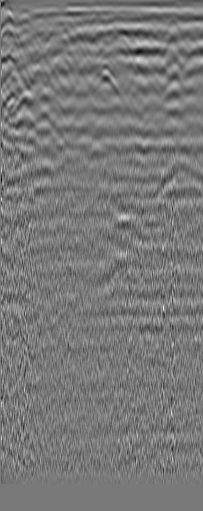오수: (14, 14, 34, 34)
우수: (163, 17, 183, 37)
